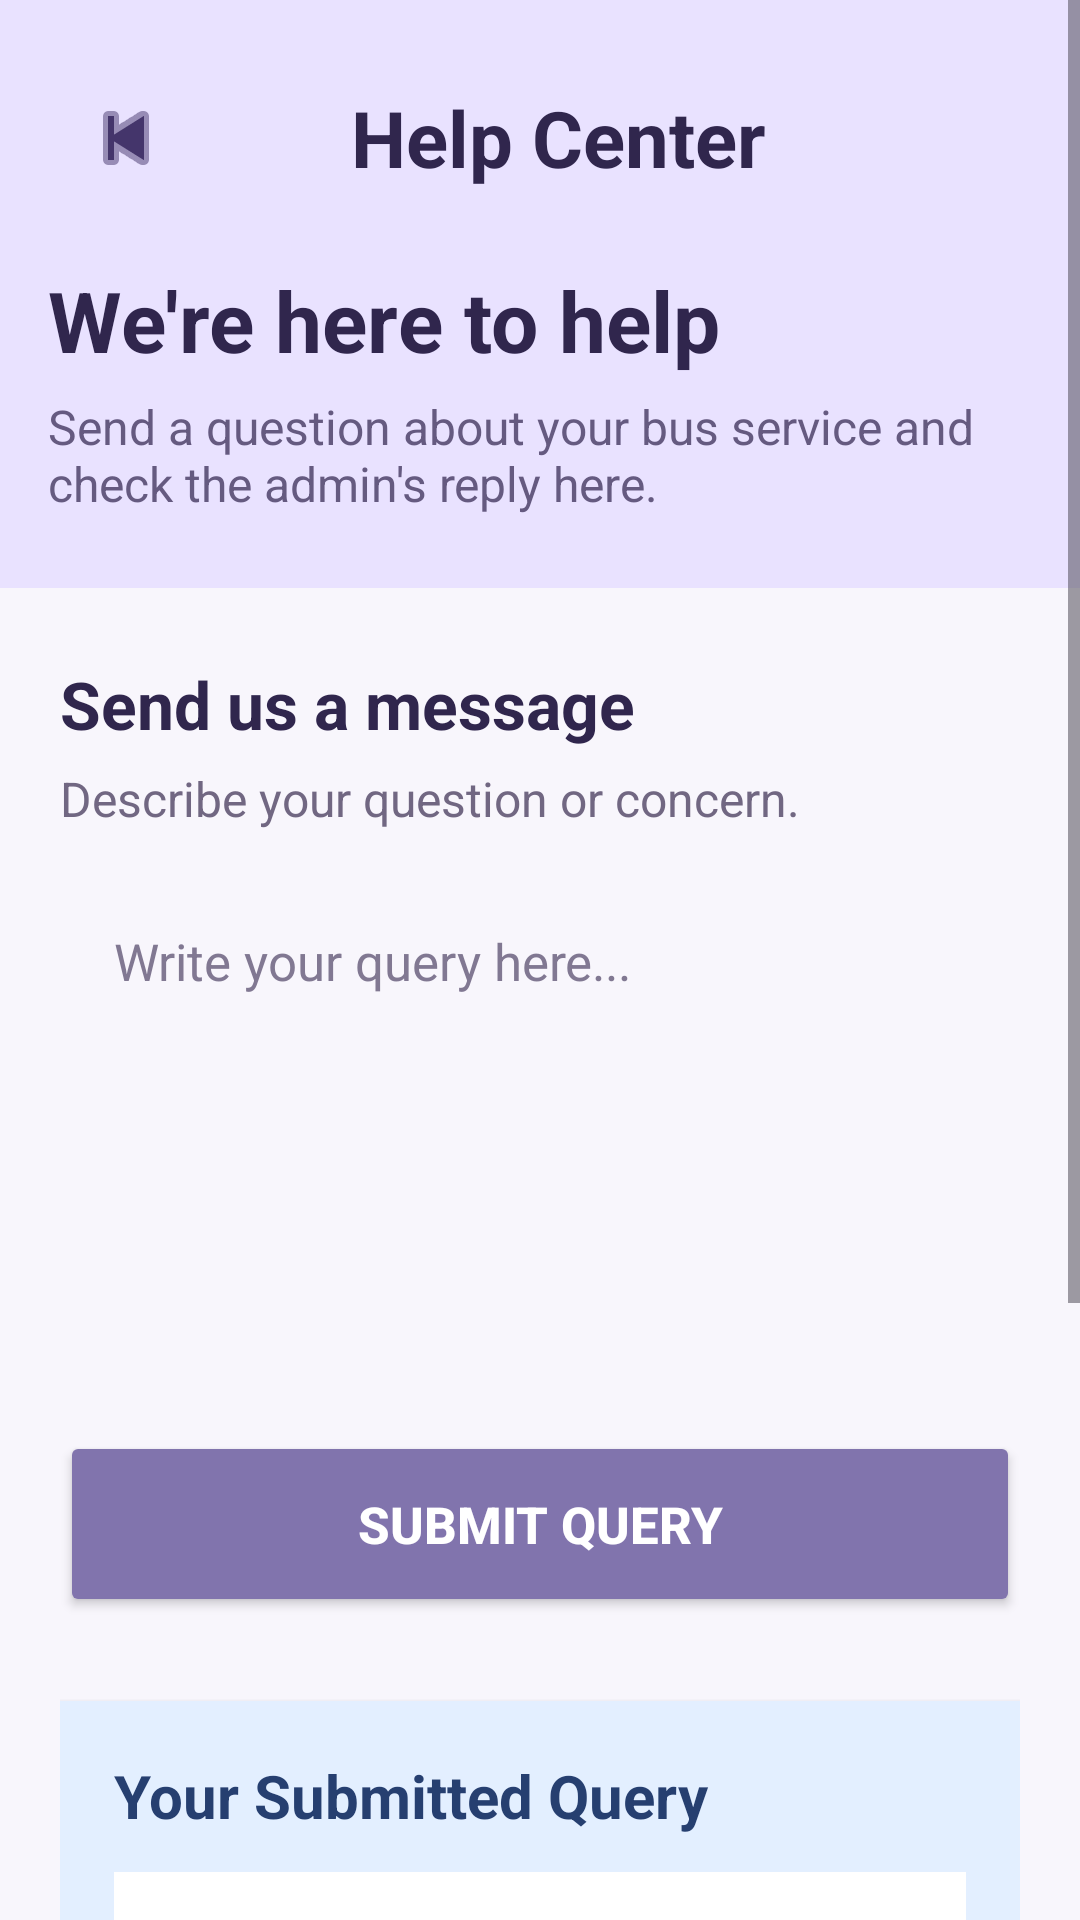

Where to tap for icons on this 1080 x 1920 app screen, as point (x, y):
Back: point (126, 138)
